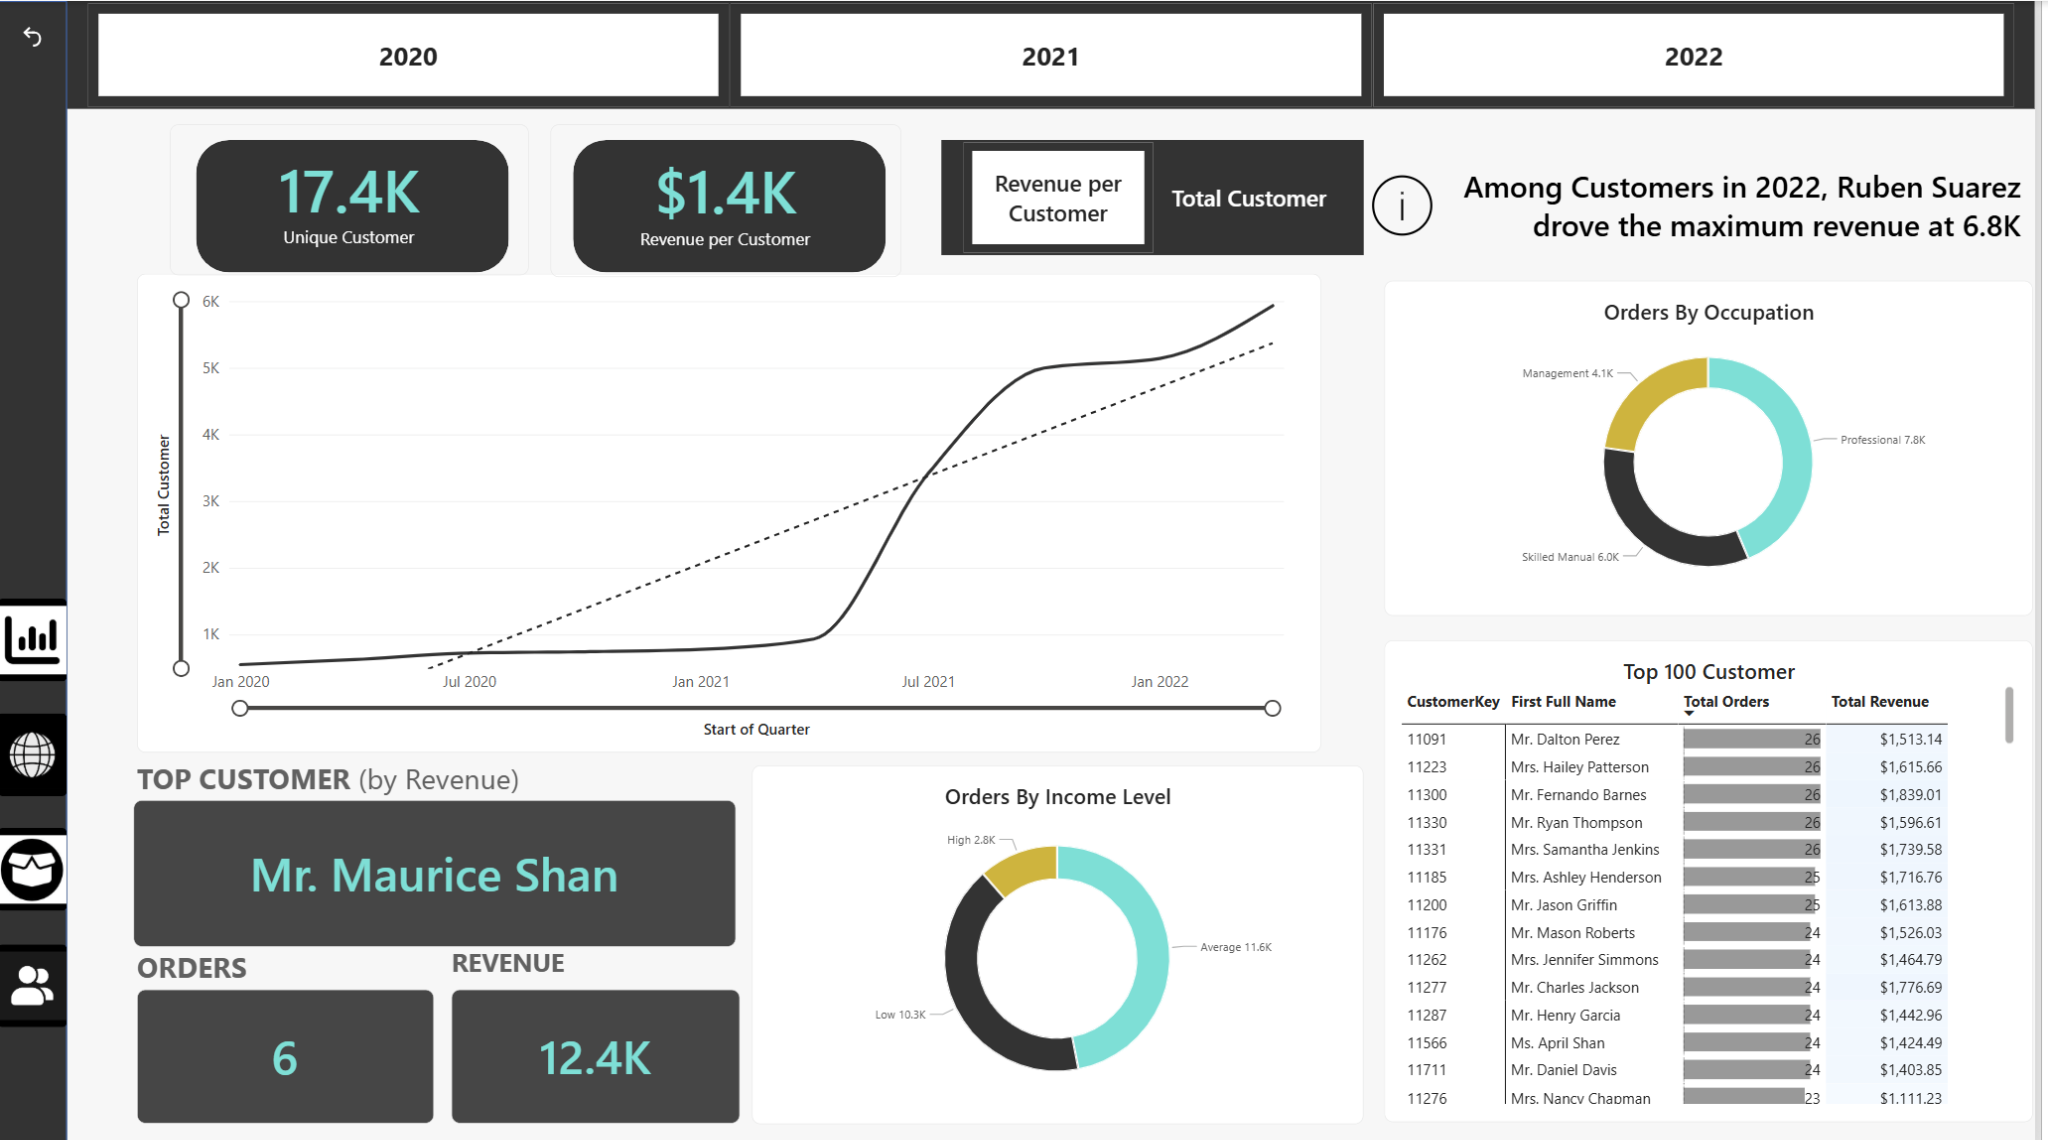

The page's visual inventory and layout, read from the dashboard file:
{"tool":"powerbi","page":{"name":"Customer","canvas":[1920,1080],"ordinal":3},"visuals":[{"type":"card","fields":{"Values":["Table Measure.Total Customer"]},"box":[162.6,116.6,338.3,142.2],"z":0,"group":"g3"},{"type":"shape","box":[186.8,131.8,295,124.9],"z":0,"group":"g1"},{"type":"group","id":"g1","title":"KPI Cards","box":[186.8,131.8,649.7,124.9],"z":0,"group":"g6"},{"type":"lineChart","title":"Customer Trending","fields":{"Category":["Calendar Lookup.Start of Year","Calendar Lookup.Start of Quarter","Calendar Lookup.Start of Month","Calendar Lookup.Start of Week","Calendar Lookup.Date"],"Y":["Table Measure.Total Customer"]},"box":[131.7,256.7,1116.7,451.7],"z":0},{"type":"actionButton","box":[0,563.4,64.8,78.2],"z":0,"group":"g7"},{"type":"card","fields":{"Values":["Table Measure.Full Name (customer Details)"]},"box":[127.5,754.9,568,138],"z":0,"group":"g2"},{"type":"card","fields":{"Values":["Table Measure.Total Orders (Customer details)"]},"box":[131.5,932.9,280,126],"z":0,"group":"g4"},{"type":"card","fields":{"Values":["Table Measure.Total Revenue (Customer details)"]},"box":[427.5,932.9,272,126],"z":0,"group":"g5"},{"type":"card","fields":{"Values":["Table Measure.Average revenue per Customer"]},"box":[520.9,116.4,330.6,144.2],"z":1000,"group":"g3"},{"type":"shape","box":[541.5,131.8,295,124.9],"z":1000,"group":"g1"},{"type":"actionButton","box":[0,670.7,64.8,78.2],"z":1000,"group":"g7"},{"type":"donutChart","title":"Orders By Income Level","fields":{"Category":["Customer Lookup.Income Level"],"Y":["Table Measure.Total Orders"]},"box":[711.2,720.4,576.3,338],"z":1000},{"type":"group","id":"g2","title":"Group 1","box":[127.5,754.9,568,138],"z":1000,"group":"g5"},{"type":"group","id":"g3","title":"KPI Values","box":[162.6,116.4,688.2,144.2],"z":2000,"group":"g6"},{"type":"donutChart","title":"Orders By Occupation","fields":{"Category":["Customer Lookup.Occupation"],"Y":["Table Measure.Total Orders"]},"box":[1307.8,264.1,611.4,315.9],"z":2000},{"type":"actionButton","box":[0,780.2,64.8,78.2],"z":2000,"group":"g7"},{"type":"group","id":"g4","title":"Group 1","box":[131.5,932.9,280,126],"z":2000,"group":"g5"},{"type":"pivotTable","title":"Top 100 Customer","fields":{"Rows":["Customer Lookup.CustomerKey"],"Values":["Min(Customer Lookup.Full Name)","Table Measure.Total Orders","Table Measure.Total Revenue"]},"box":[1307.8,602.2,611.4,454.4],"z":3000},{"type":"textbox","box":[131.5,892.9,280,40],"z":3000,"group":"g5"},{"type":"slicer","fields":{"Values":["Calendar Lookup.year1"]},"box":[64.7,0,1856.4,101.6],"z":4000},{"type":"textbox","box":[427.5,890.9,272,42],"z":4000,"group":"g5"},{"type":"group","id":"g5","title":"Group 2","box":[127.5,714.9,570.8,343.6],"z":5000},{"type":"textbox","box":[131.5,714.9,564,40],"z":5000,"group":"g5"},{"type":"group","id":"g6","title":"Group 3","box":[162.6,116.4,689,144.1],"z":6000},{"type":"actionButton","box":[1287.5,140.4,631.7,103.4],"z":7000},{"type":"shape","title":"Left Nav Bar","box":[0,0,65.1,1078.5],"z":8000},{"type":"actionButton","box":[0,889.8,64.8,78.2],"z":9000},{"type":"group","id":"g7","title":"Custom navigation","box":[0,563.4,64.8,295.1],"z":10000},{"type":"actionButton","box":[10,10,44.7,47.7],"z":11000},{"type":"slicer","fields":{"Values":["Customer Metric solutions.Customer Metric solutions"]},"box":[890,131.7,398.3,108.3],"z":11001}]}

Visuals, with their boxes on the page's 1920x1080 design canvas (x1, y1, x2, y2). These are canvas units, not pixel positions in the 2048x1140 screenshot, which may show the page scaled, cropped or inside an application window:
card - Table Measure.Total Customer: 163/117/501/259
shape: 187/132/482/257
"KPI Cards" group: 187/132/836/257
"Customer Trending" lineChart: 132/257/1248/708
actionButton: 0/563/65/642
card - Table Measure.Full Name (customer Details): 128/755/696/893
card - Table Measure.Total Orders (Customer details): 132/933/412/1059
card - Table Measure.Total Revenue (Customer details): 428/933/700/1059
card - Table Measure.Average revenue per Customer: 521/116/852/261
shape: 542/132/836/257
actionButton: 0/671/65/749
"Orders By Income Level" donutChart: 711/720/1288/1058
"Group 1" group: 128/755/696/893
"KPI Values" group: 163/116/851/261
"Orders By Occupation" donutChart: 1308/264/1919/580
actionButton: 0/780/65/858
"Group 1" group: 132/933/412/1059
"Top 100 Customer" pivotTable: 1308/602/1919/1057
textbox: 132/893/412/933
slicer - Calendar Lookup.year1: 65/0/1921/102
textbox: 428/891/700/933
"Group 2" group: 128/715/698/1058
textbox: 132/715/696/755
"Group 3" group: 163/116/852/260
actionButton: 1288/140/1919/244
"Left Nav Bar" shape: 0/0/65/1078
actionButton: 0/890/65/968
"Custom navigation" group: 0/563/65/858
actionButton: 10/10/55/58
slicer - Customer Metric solutions.Customer Metric solutions: 890/132/1288/240
